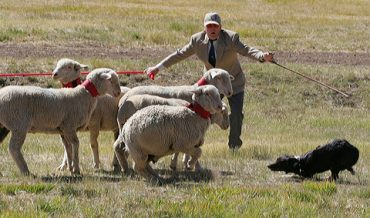sheep: (1, 65, 121, 179), (113, 68, 235, 162), (50, 57, 149, 163), (123, 98, 230, 184), (117, 98, 231, 169)
